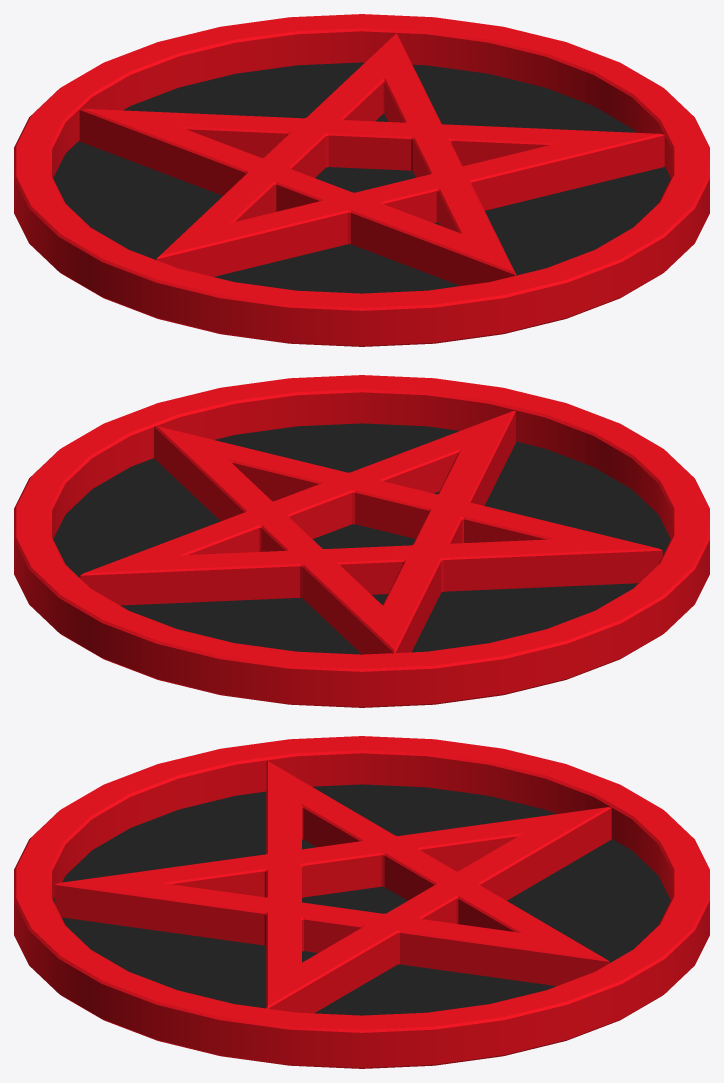
The model's file is satanCircle.fbx.
3 views of the same model, one above another, from view 1: azimuth 30°, elevation 25°; view 2: azimuth 150°, elevation 25°; view 3: azimuth 270°, elevation 25° (orthographic).
Visible parts, largest first — view 1: satanicCircle_geo, background_geo; view 2: satanicCircle_geo, background_geo; view 3: satanicCircle_geo, background_geo.
Part boxes in pixels (box(x1,y1,x2,y2)): satanicCircle_geo: box(14, 14, 709, 346); background_geo: box(53, 62, 670, 293); satanicCircle_geo: box(14, 375, 709, 707); background_geo: box(53, 423, 670, 654); satanicCircle_geo: box(14, 736, 709, 1068); background_geo: box(53, 784, 670, 1015).
Bounding box in the file's own units: 101 × 6.22 × 100.
